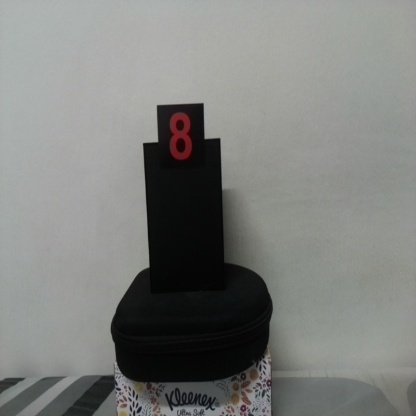id_8: (158, 106, 205, 176)
